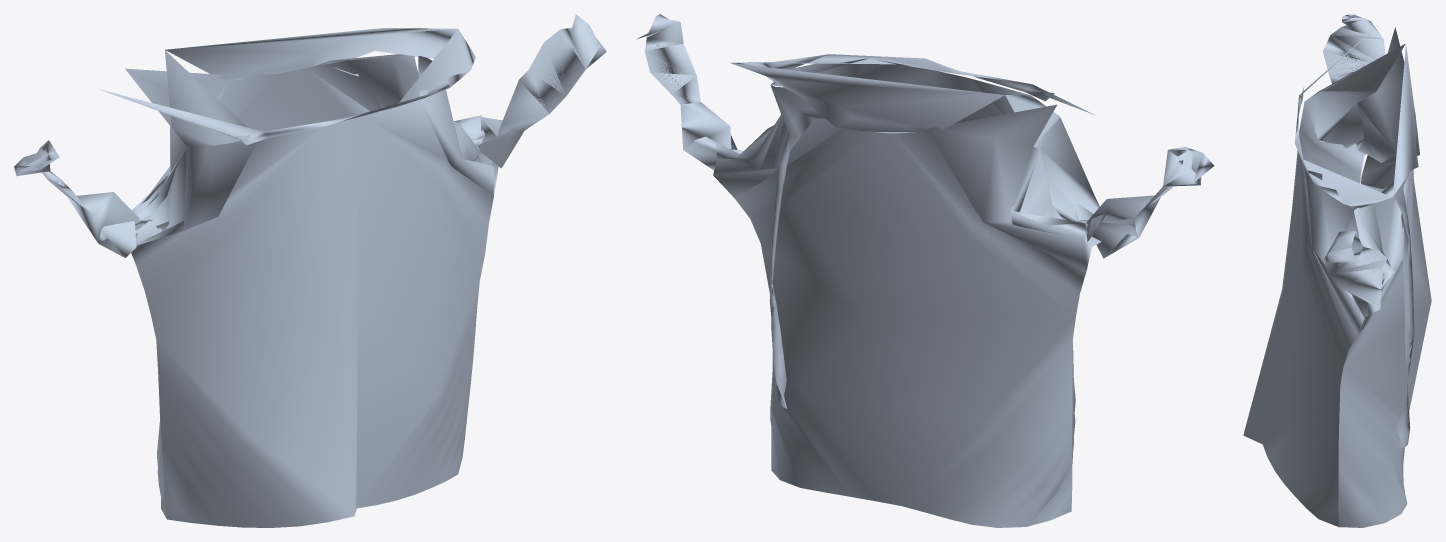
Rendered from neutral_settled_simulation.glb.
3 renders of one model, left to right at view 1: azimuth 30°, elevation 25°; view 2: azimuth 150°, elevation 25°; view 3: azimuth 270°, elevation 25°, orthographic. The views are drawn at different scales.
Visible parts, largest first — view 1: panel.front, panel.back, panel.neck_band, panel.sleeve.right, panel.sleeve.left; view 2: panel.back, panel.neck_band, panel.front, panel.sleeve.right, panel.sleeve.left; view 3: panel.front, panel.back, panel.neck_band, panel.sleeve.right, panel.sleeve.left.
Part boxes in pixels (box(x1,y1,x2,y2)): panel.front: box(131, 50, 494, 527); panel.back: box(125, 55, 498, 518); panel.neck_band: box(98, 28, 475, 145); panel.sleeve.right: box(478, 14, 606, 168); panel.sleeve.left: box(14, 140, 143, 257); panel.back: box(713, 87, 1090, 527); panel.neck_band: box(730, 54, 1095, 408); panel.front: box(771, 58, 1101, 463); panel.sleeve.right: box(636, 14, 737, 170); panel.sleeve.left: box(1086, 146, 1214, 258); panel.front: box(1243, 44, 1405, 526); panel.back: box(1338, 27, 1431, 527); panel.neck_band: box(1294, 22, 1418, 448); panel.sleeve.right: box(1324, 230, 1387, 318); panel.sleeve.left: box(1323, 14, 1385, 146).
Bounding box in the file's own units: 1.04 × 0.7715 × 0.3477.
